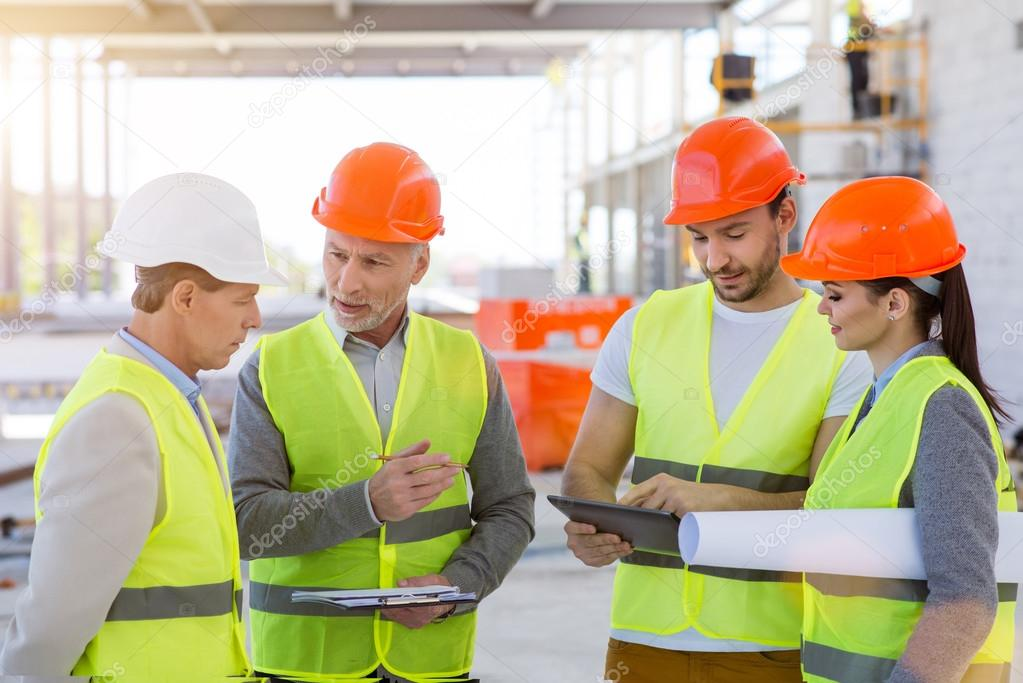casco: (92, 171, 296, 294), (776, 174, 968, 284), (661, 114, 809, 229), (309, 139, 449, 247)
